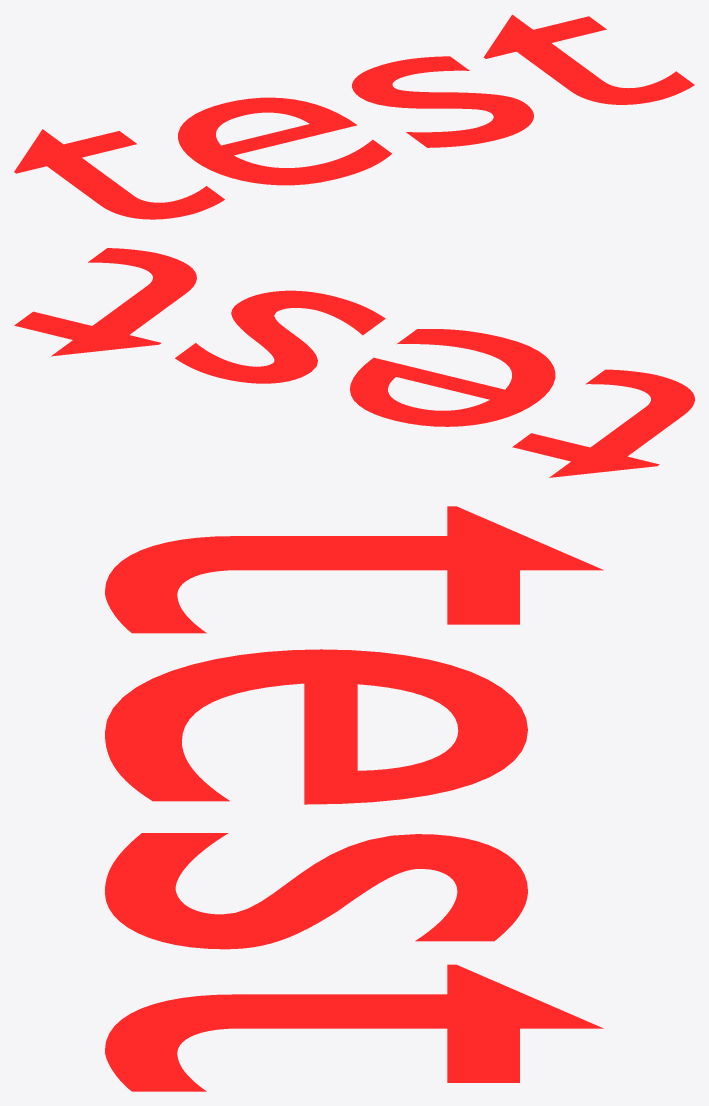
3 renders of one model, top to bottom at view 1: azimuth 30°, elevation 25°; view 2: azimuth 150°, elevation 25°; view 3: azimuth 270°, elevation 25°, orthographic. The views are drawn at different scales.
Visible parts, largest first — view 1: 文本; view 2: 文本; view 3: 文本.
Part boxes in pixels (box(x1,y1,x2,y2)): 文本: box(14, 14, 694, 219); 文本: box(14, 248, 694, 477); 文本: box(105, 506, 603, 1091).
Size of what is drawn, in the model's own units: 4.26 by 0 by 1.53.
